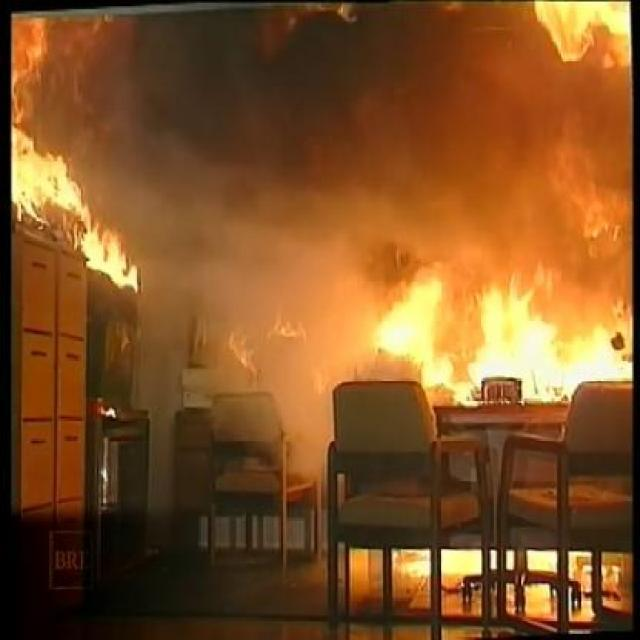fire: (373, 236, 613, 379), (17, 25, 123, 236)
smoke: (150, 74, 330, 356)
